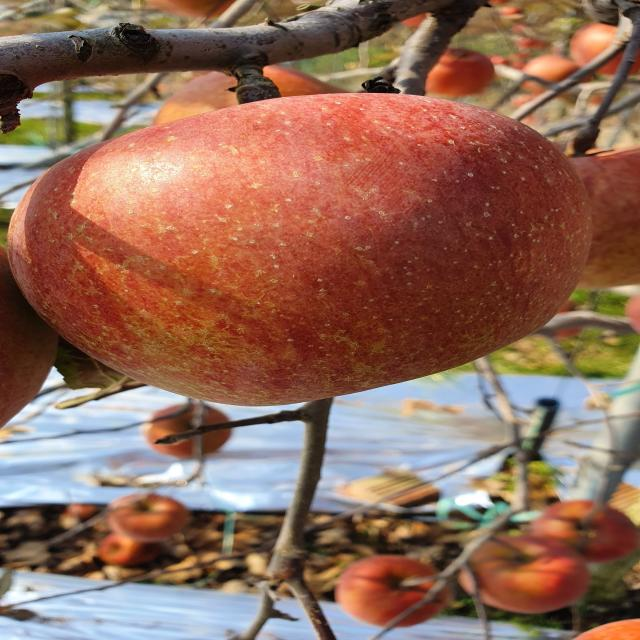fresh: (1, 93, 613, 415)
